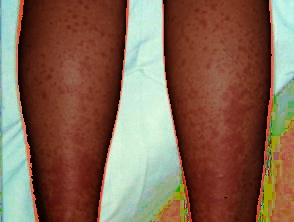SJS-TEN: (163, 0, 293, 222), (11, 0, 120, 222)
